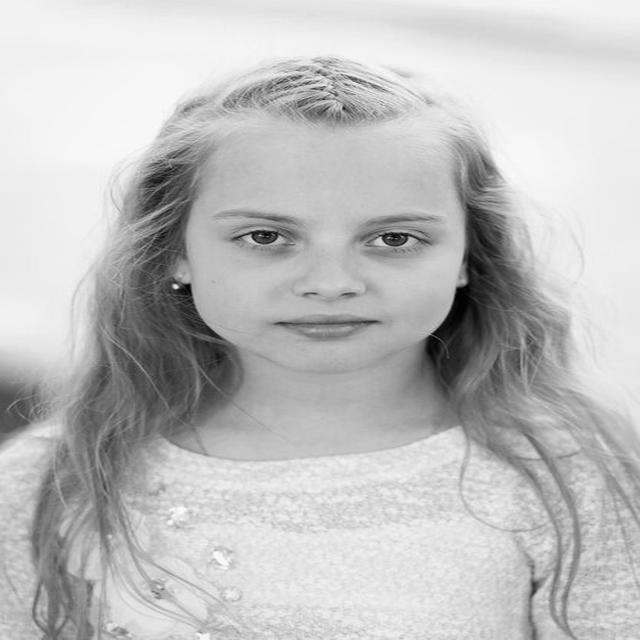Neutral: (185, 128, 465, 374)
